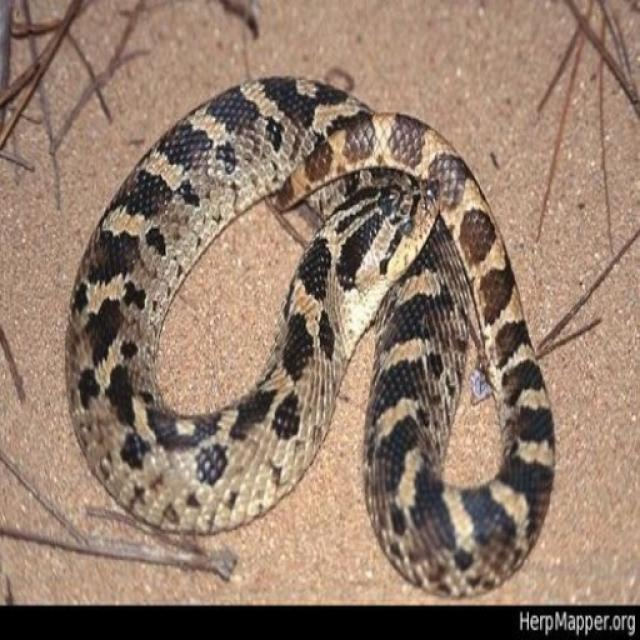snake: (45, 59, 604, 603)
